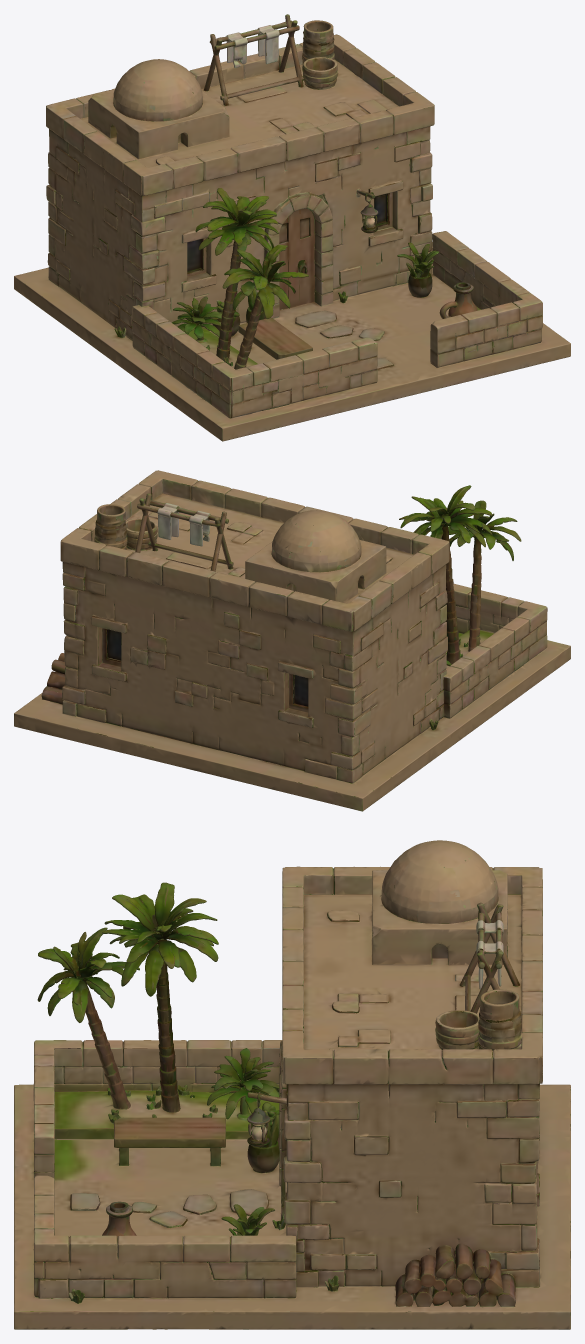
The model's file is house.glb.
3 views of the same model, one above another, from view 1: azimuth 30°, elevation 25°; view 2: azimuth 150°, elevation 25°; view 3: azimuth 270°, elevation 25° (orthographic). The views are drawn at different scales.
Parts seen in each view (by area): view 1: tripo_node_f499ef9d-03b3-4eda-a40d-b2c37a2c3e68; view 2: tripo_node_f499ef9d-03b3-4eda-a40d-b2c37a2c3e68; view 3: tripo_node_f499ef9d-03b3-4eda-a40d-b2c37a2c3e68.
Part boxes in pixels (x1,y1,x2,y2): tripo_node_f499ef9d-03b3-4eda-a40d-b2c37a2c3e68: (14,14,570,441); tripo_node_f499ef9d-03b3-4eda-a40d-b2c37a2c3e68: (14,470,570,811); tripo_node_f499ef9d-03b3-4eda-a40d-b2c37a2c3e68: (14,840,570,1329).
Bounding box in the file's own units: 0.966 × 0.6306 × 1.
Materials: 1 (1 with a texture image).
